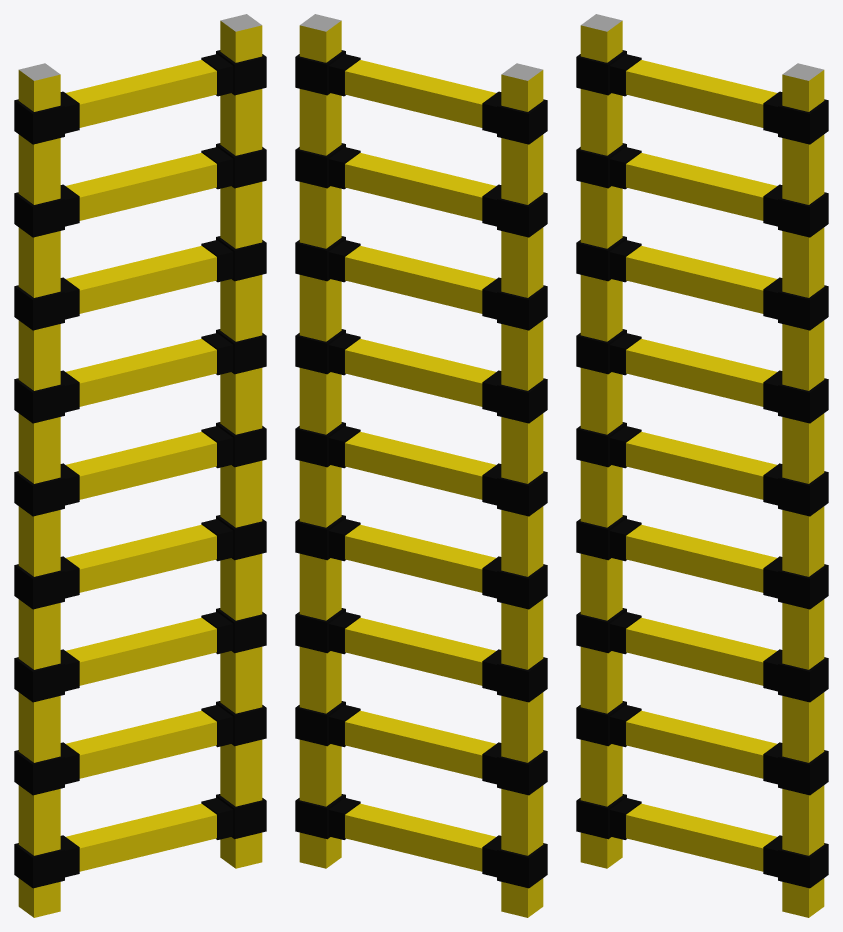
Rendered from Ladder_Short1.fbx.
3 renders of one model, left to right at view 1: azimuth 30°, elevation 25°; view 2: azimuth 150°, elevation 25°; view 3: azimuth 330°, elevation 25°, orthographic.
Visible parts, largest first — view 1: pCube160; view 2: pCube160; view 3: pCube160.
Boxes of the visible parts, x1,y1,x2,y2 form: pCube160: (14,14,266,917); pCube160: (295,14,547,917); pCube160: (576,14,828,917).
Size of the model in its own units: 0.829 by 2.84 by 0.1149.
